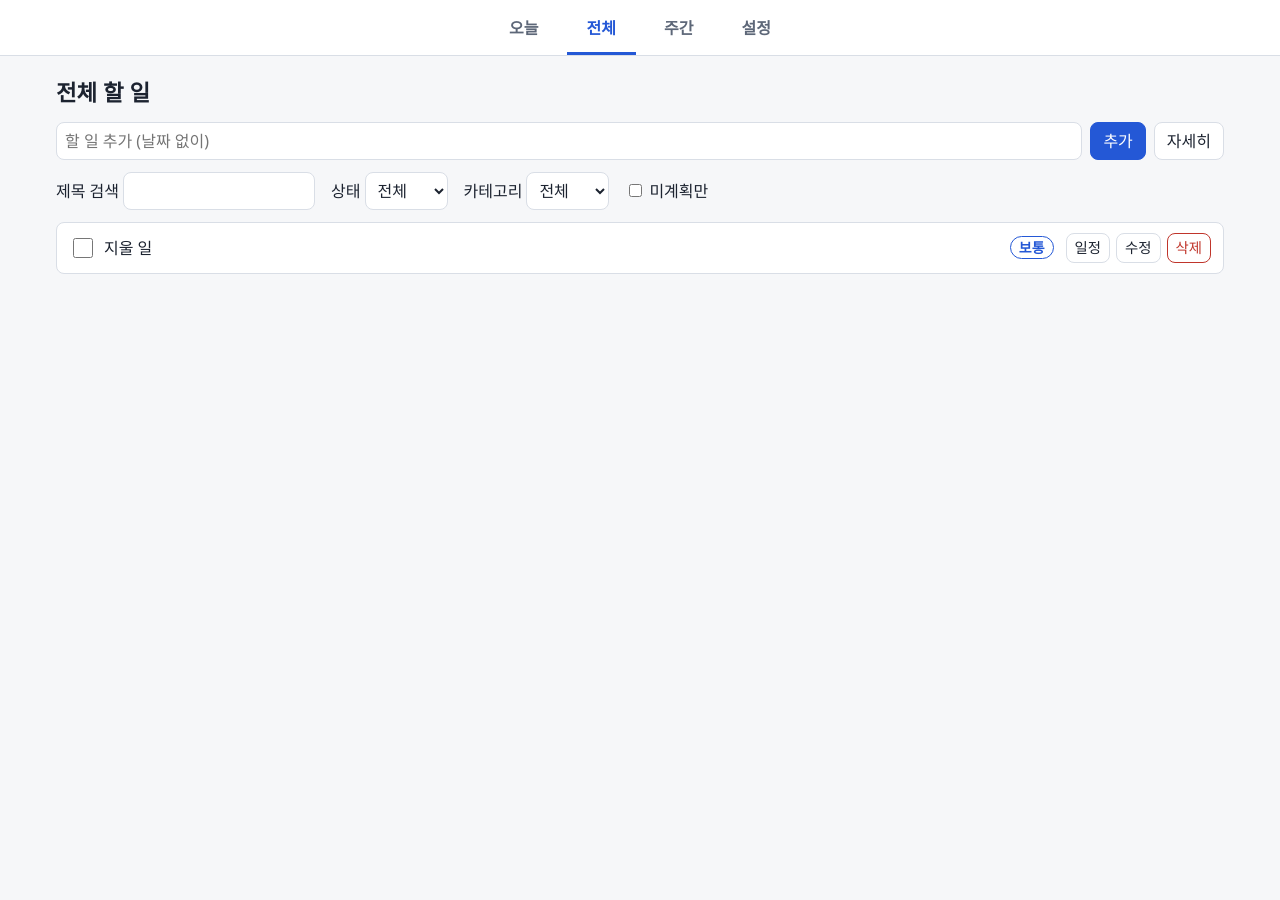
Scenario: 삭제 (AC11) › 확인 대화상자에서 취소하면 남고, 삭제를 누르면 지운다
Step 1. Click the button with aria-label "지울 일 삭제" → (1189, 248), box [1166, 233, 1211, 263]
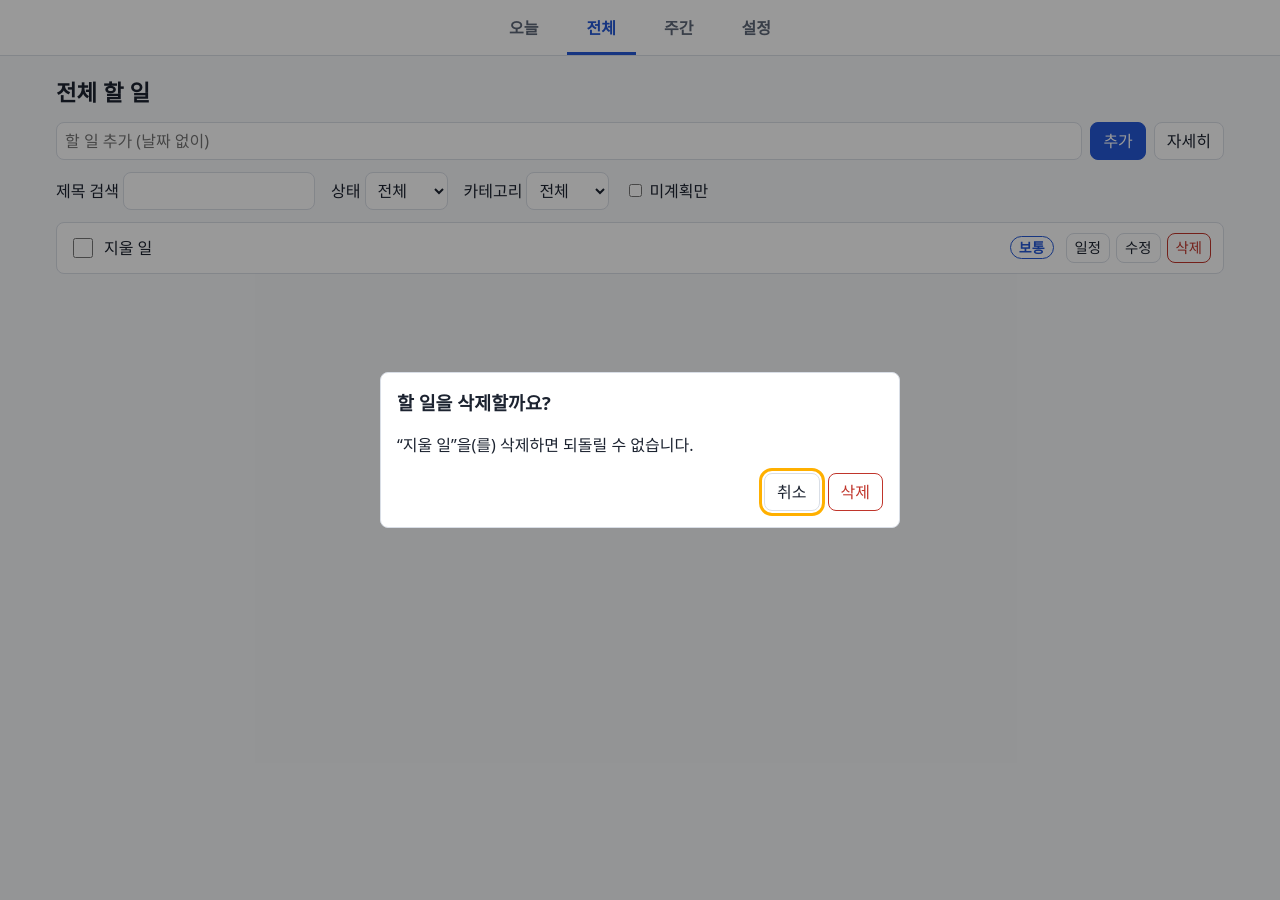
Step 2. Click the button "취소" → (792, 492), box [764, 473, 820, 511]
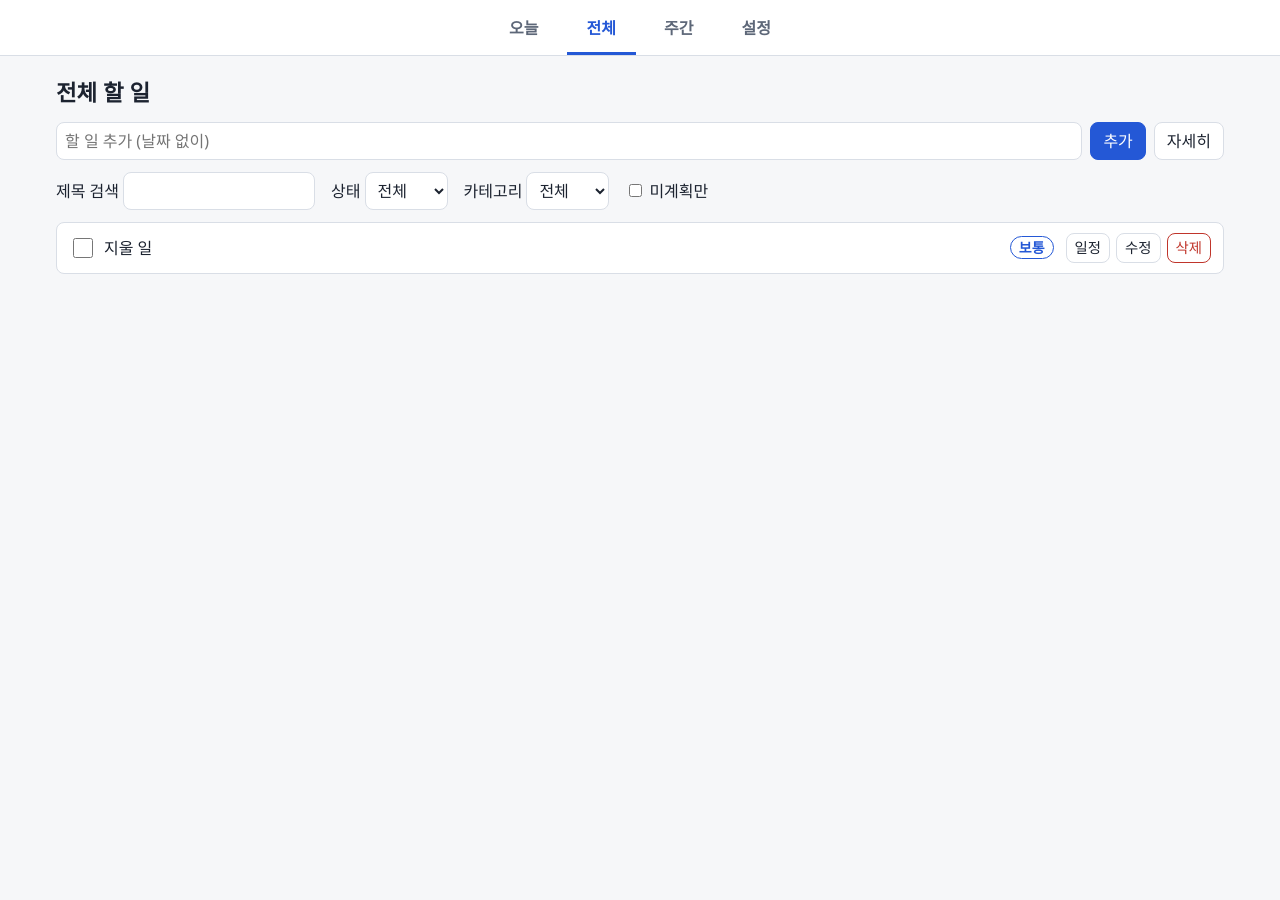
Check: the checkbox labelled "지울 일" is shown, box [73, 238, 93, 258]
Step 3. Click the button with aria-label "지울 일 삭제" → (1189, 248), box [1166, 233, 1211, 263]
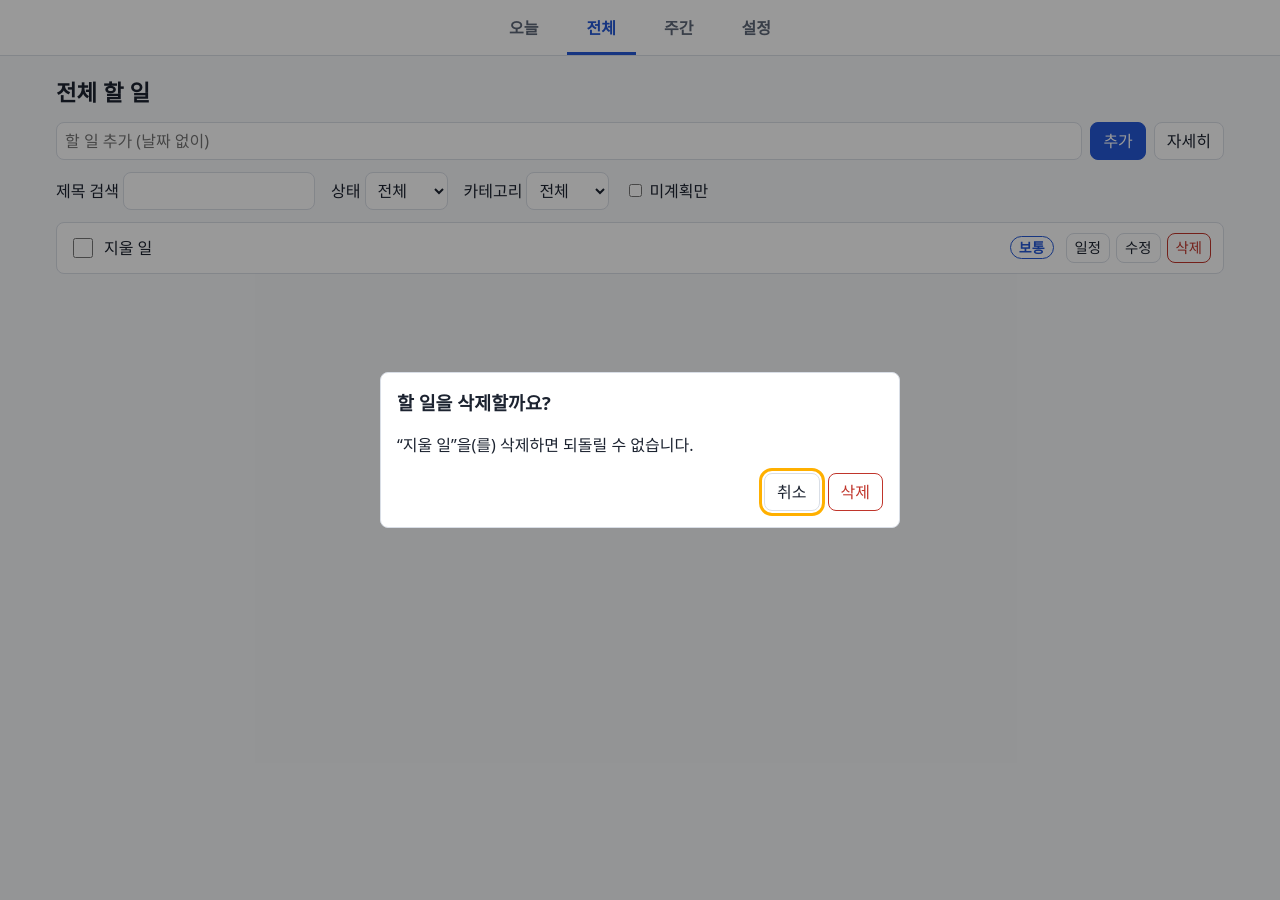
Step 4. Click the button "삭제" → (855, 492), box [828, 473, 883, 511]
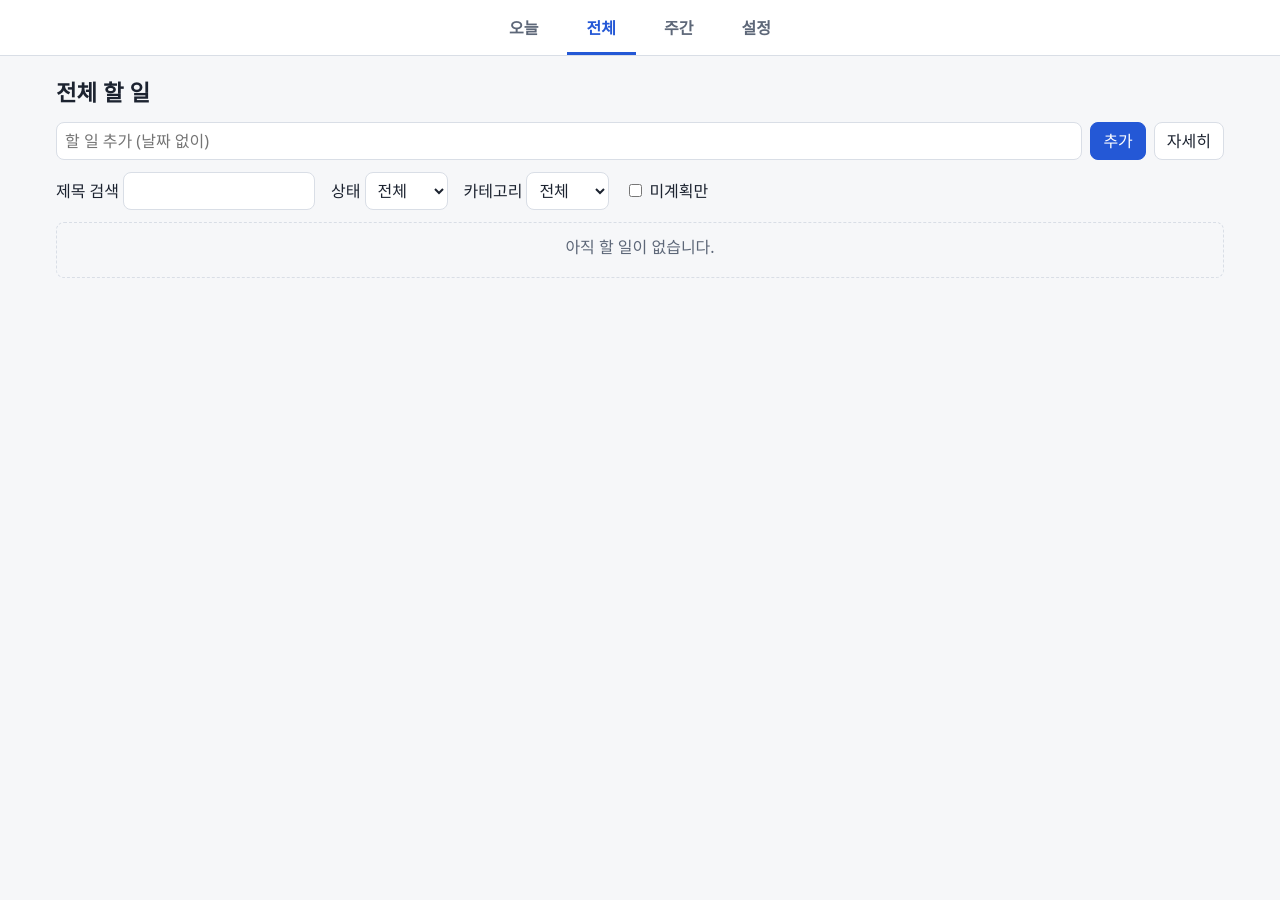
Check: the label "지울 일" is gone
